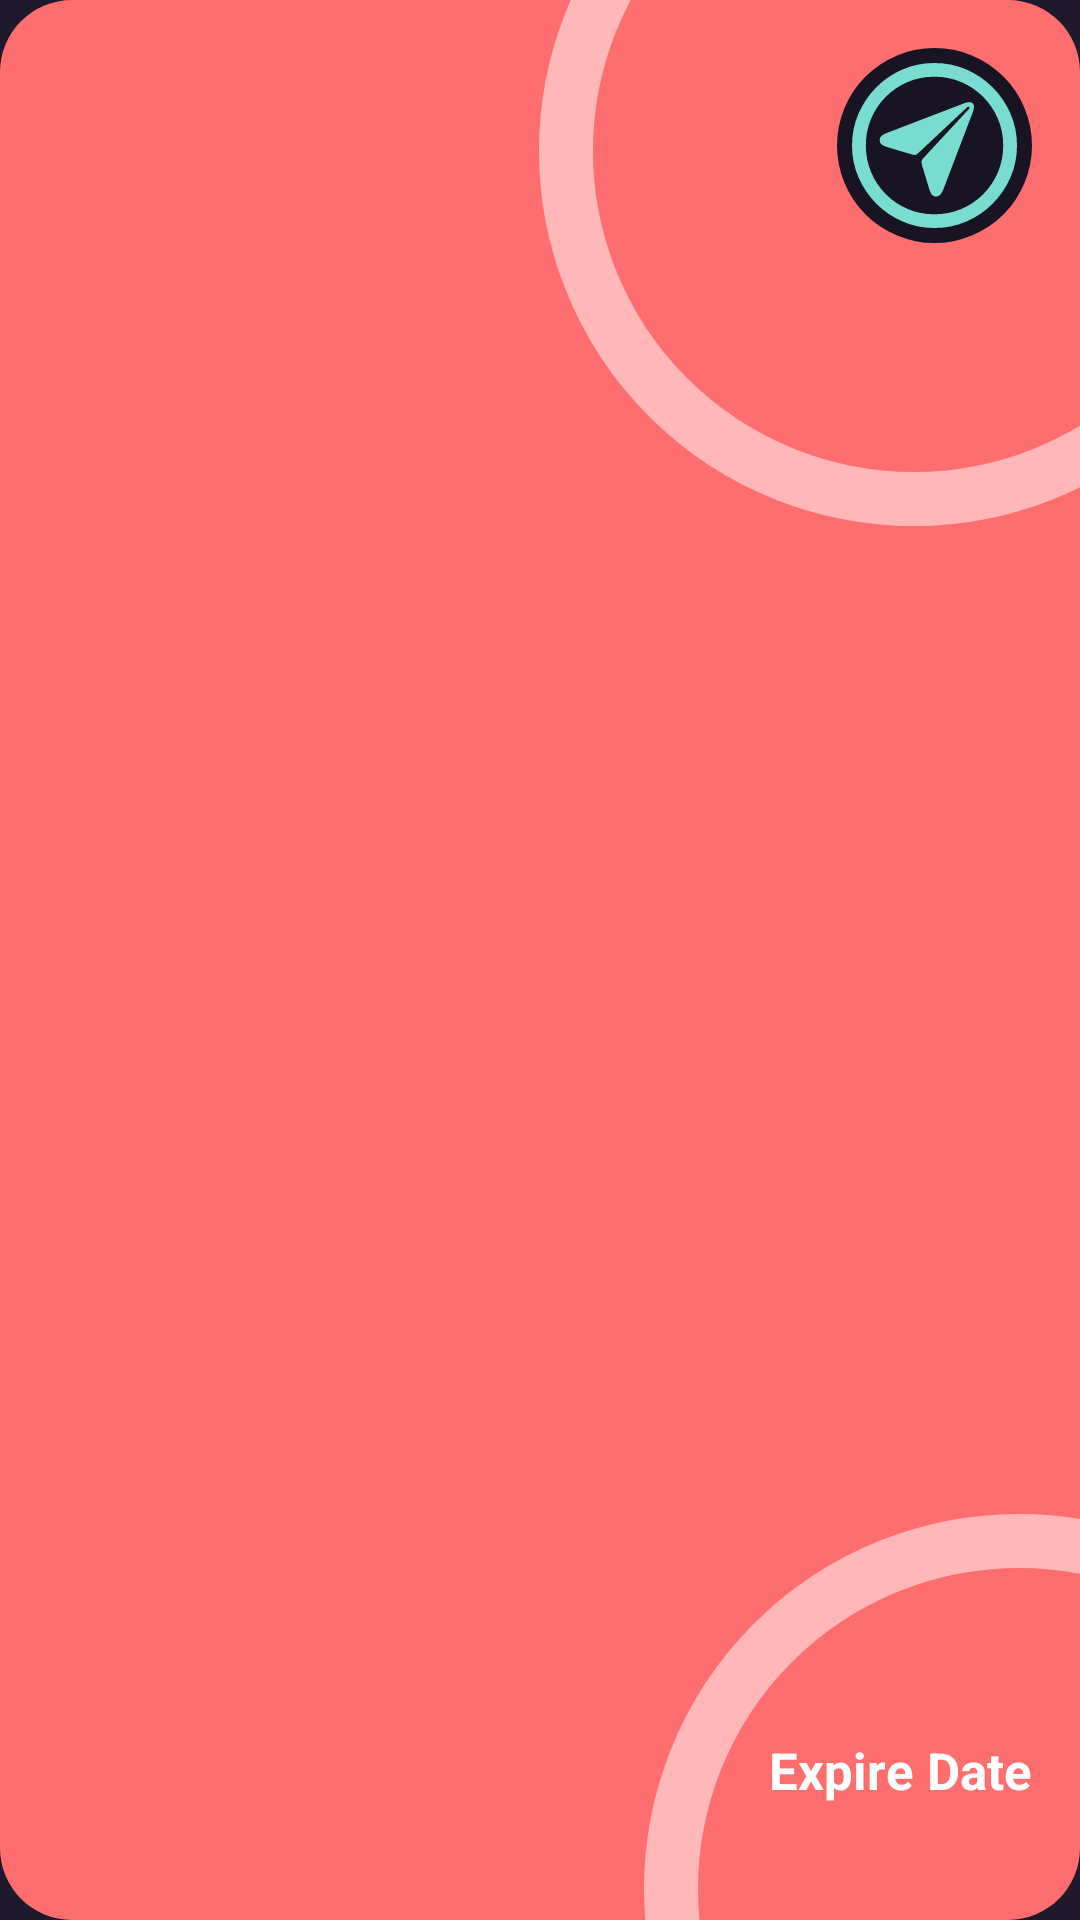

Named icons in this screenshot (1080*1920) and their centers, point (x, y):
send: point (934, 145)
